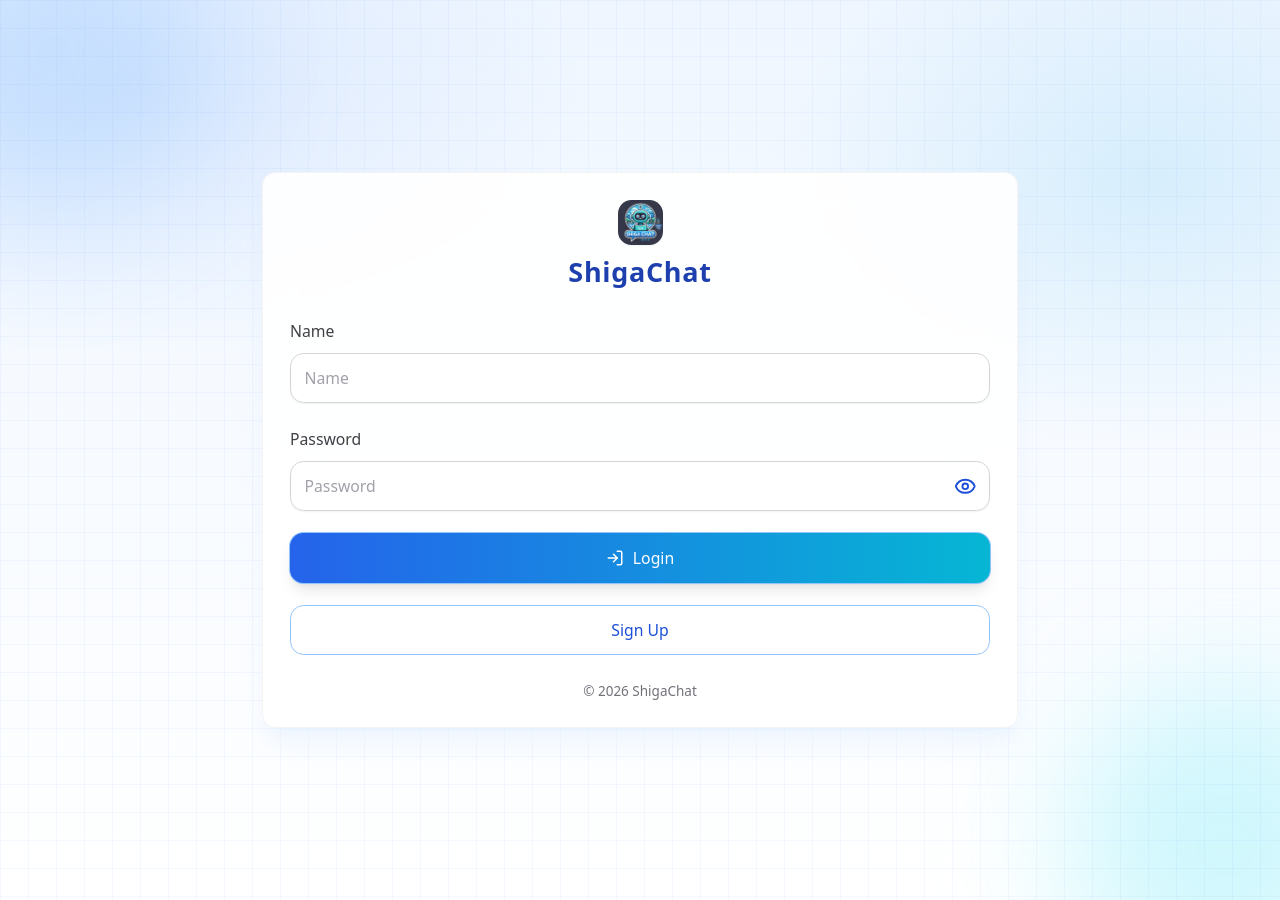
Scenario: the original login action identifies a credential error
The width and height of the screenshot is (1280, 900).
Type "mobile-user" into the field labelled "Name". click: (640, 378)
box: [290,353,990,403]
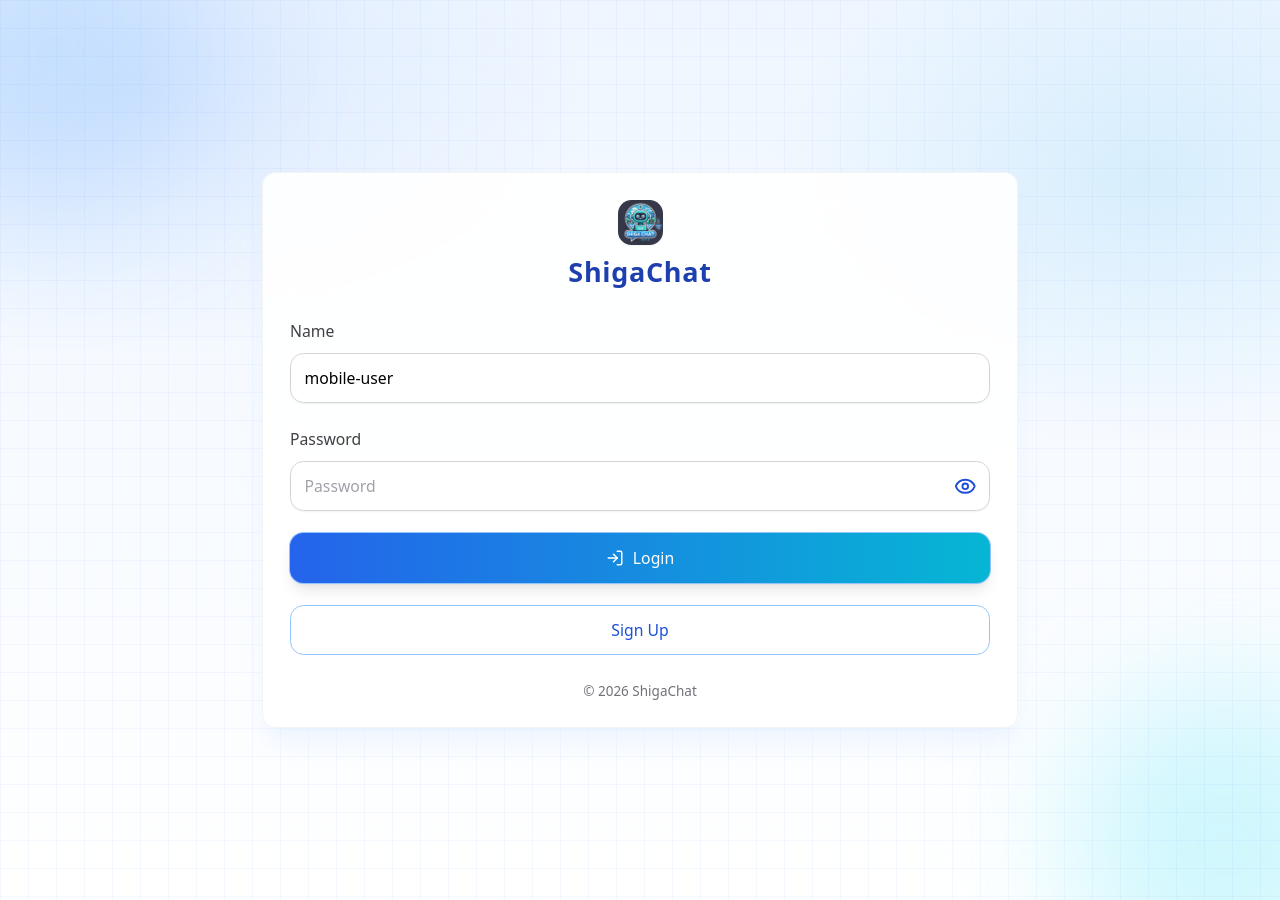
Type "password123" into the password field labelled "Password". click: (640, 486)
box: [290,461,990,511]
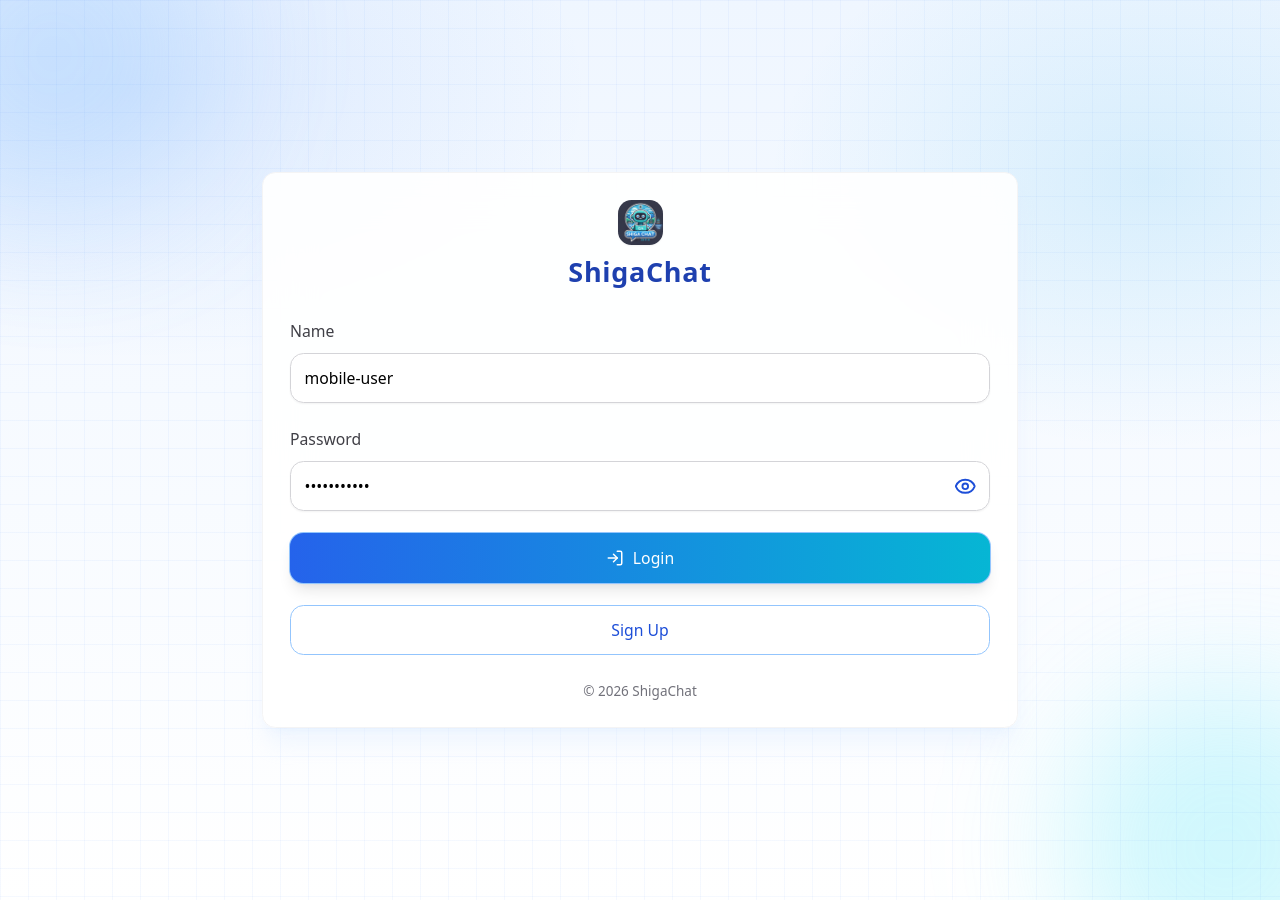
Click the button "Login". click: (640, 558)
box: [290,533,990,583]
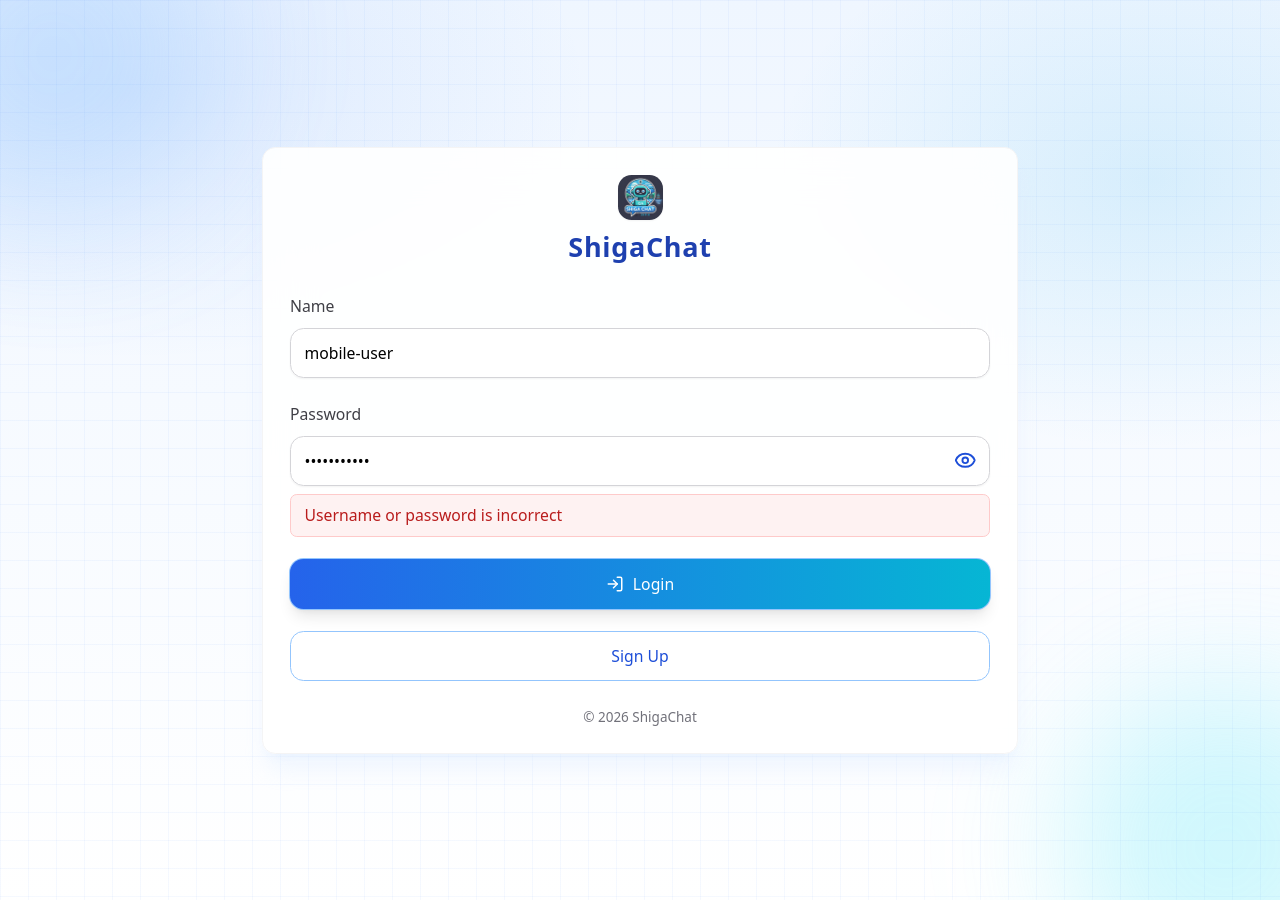
Result: the message reads "Username or password is incorrect" at [304,504,562,526]
